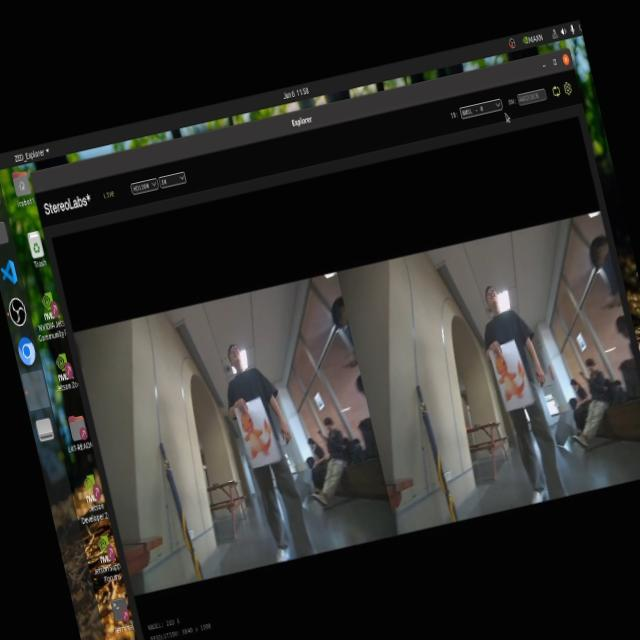red: (482, 348, 532, 415), (236, 398, 279, 456)
